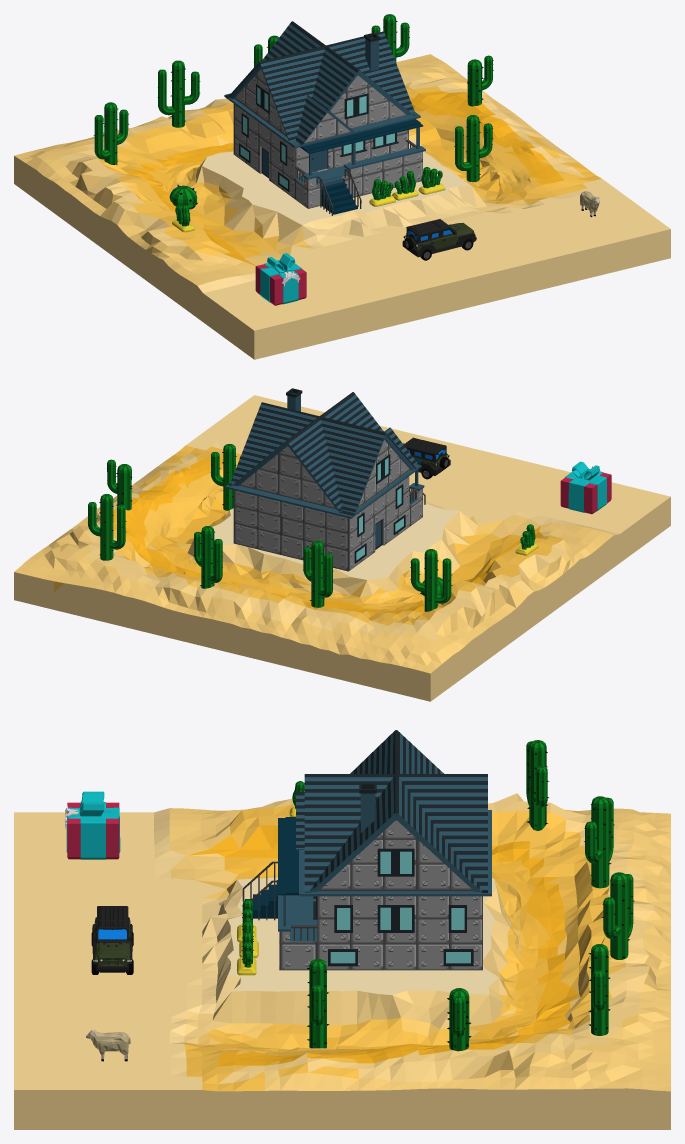
The picture shows the model from 3 angles, top to bottom: view 1: azimuth 30°, elevation 25°; view 2: azimuth 150°, elevation 25°; view 3: azimuth 270°, elevation 25°; orthographic projection. The views are drawn at different scales.
Visible parts, largest first — view 1: Cube.001, Cube.078, OBJRANDOM_GIANT_PRESENT, VEHICLES_JEEP, Cylinder.037, Cylinder.044, Cylinder.045, Cylinder.038, Cylinder.042, Cylinder.039, Cylinder.041, Sphere.023 (+1 smaller); view 2: Cube.001, Cube.078, OBJRANDOM_GIANT_PRESENT, Cylinder.042, Cylinder.045, Cylinder.044, Cylinder.043, VEHICLES_JEEP, Cylinder.037, Cylinder.038; view 3: Cube.001, Cube.078, OBJRANDOM_GIANT_PRESENT, VEHICLES_JEEP, Cylinder.043, Cylinder.044, Cylinder.045, Cylinder.042, Cylinder.037, Cylinder.038, ANIMAL_OVEJA, Cylinder.041.
Boxes of the visible parts, x1,y1,x2,y2 form: Cube.001: (14, 54, 670, 359); Cube.078: (224, 21, 425, 215); OBJRANDOM_GIANT_PRESENT: (255, 253, 306, 305); VEHICLES_JEEP: (402, 219, 476, 260); Cylinder.037: (454, 115, 493, 182); Cylinder.044: (157, 60, 200, 127); Cylinder.045: (93, 102, 129, 164); Cylinder.038: (467, 55, 493, 106); Cylinder.042: (371, 14, 409, 62); Cylinder.039: (369, 179, 395, 206); Cylinder.041: (418, 167, 445, 194); Sphere.023: (169, 184, 197, 209); Cube.001: (14, 395, 670, 701); Cube.078: (225, 388, 425, 571); OBJRANDOM_GIANT_PRESENT: (560, 461, 611, 514); Cylinder.042: (88, 494, 126, 560); Cylinder.045: (410, 549, 452, 611); Cylinder.044: (303, 540, 333, 607); Cylinder.043: (193, 526, 222, 588); VEHICLES_JEEP: (403, 437, 450, 479); Cylinder.037: (211, 444, 240, 510); Cylinder.038: (107, 459, 131, 510); Cube.001: (14, 793, 670, 1129); Cube.078: (242, 730, 491, 970); OBJRANDOM_GIANT_PRESENT: (65, 791, 120, 859); VEHICLES_JEEP: (91, 906, 133, 974); Cylinder.043: (602, 872, 634, 959); Cylinder.044: (584, 796, 614, 888); Cylinder.045: (526, 740, 549, 830); Cylinder.042: (588, 944, 610, 1035); Cylinder.037: (307, 959, 329, 1048); Cylinder.038: (447, 988, 471, 1051); ANIMAL_OVEJA: (86, 1029, 130, 1061); Cylinder.041: (237, 932, 256, 975).
Size of the model in its own units: 4002 by 1630 by 4001.
30 materials, 4 textured.
